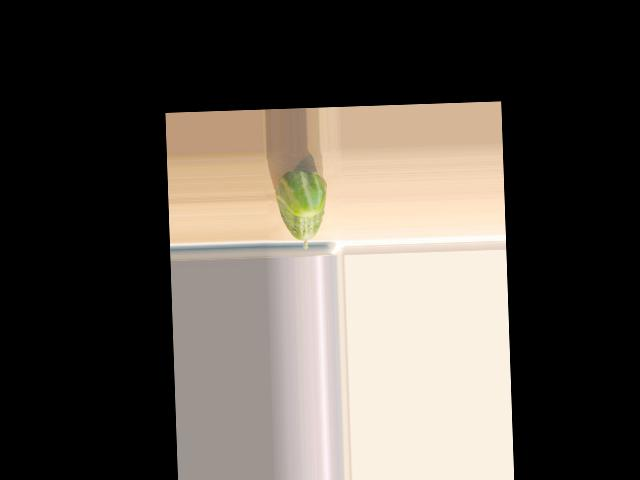cucumber: (275, 170, 329, 250)
